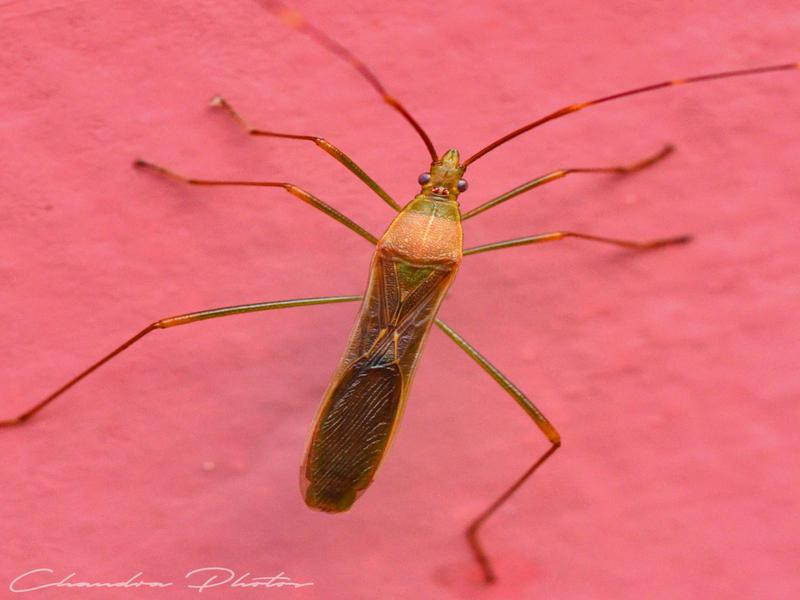Rice_earhead_bug: (207, 84, 629, 538)
